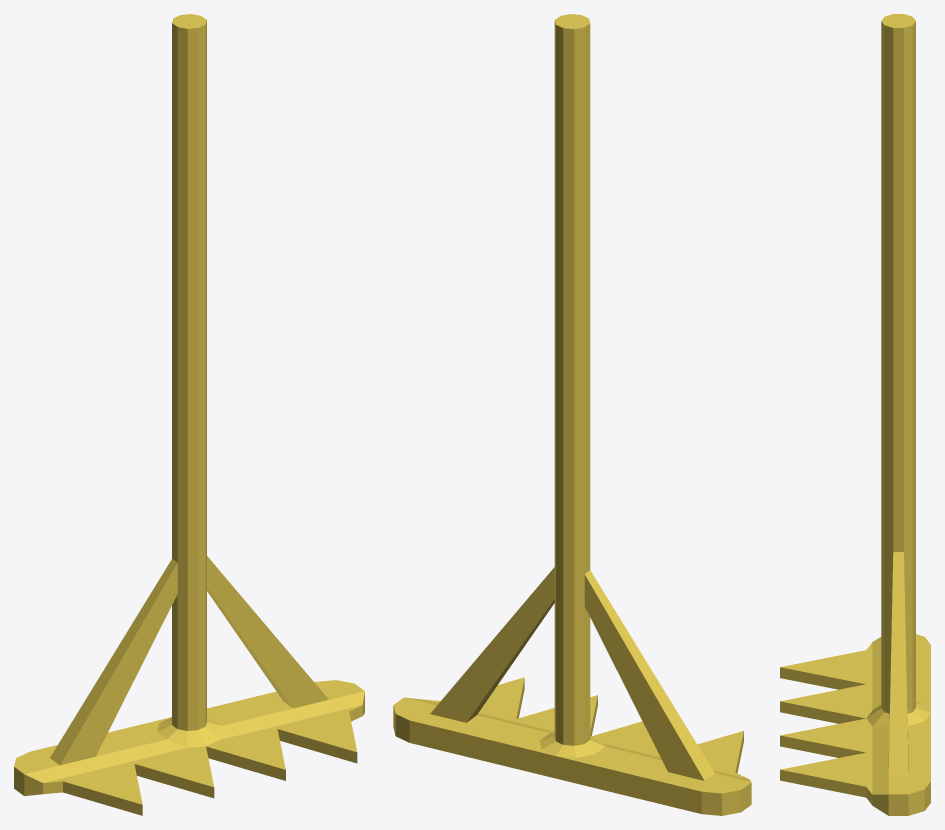
The model's file is newRake.fbx.
The picture shows the model from 3 angles, left to right: view 1: azimuth 30°, elevation 25°; view 2: azimuth 150°, elevation 25°; view 3: azimuth 270°, elevation 25°; orthographic projection. The views are drawn at different scales.
Parts seen in each view (by area): view 1: rake; view 2: rake; view 3: rake.
Part boxes in pixels (box(x1,y1,x2,y2)): rake: box(14, 14, 364, 815); rake: box(393, 14, 751, 815); rake: box(780, 14, 930, 815).
Bounding box in the file's own units: 117 × 239 × 45.79.
